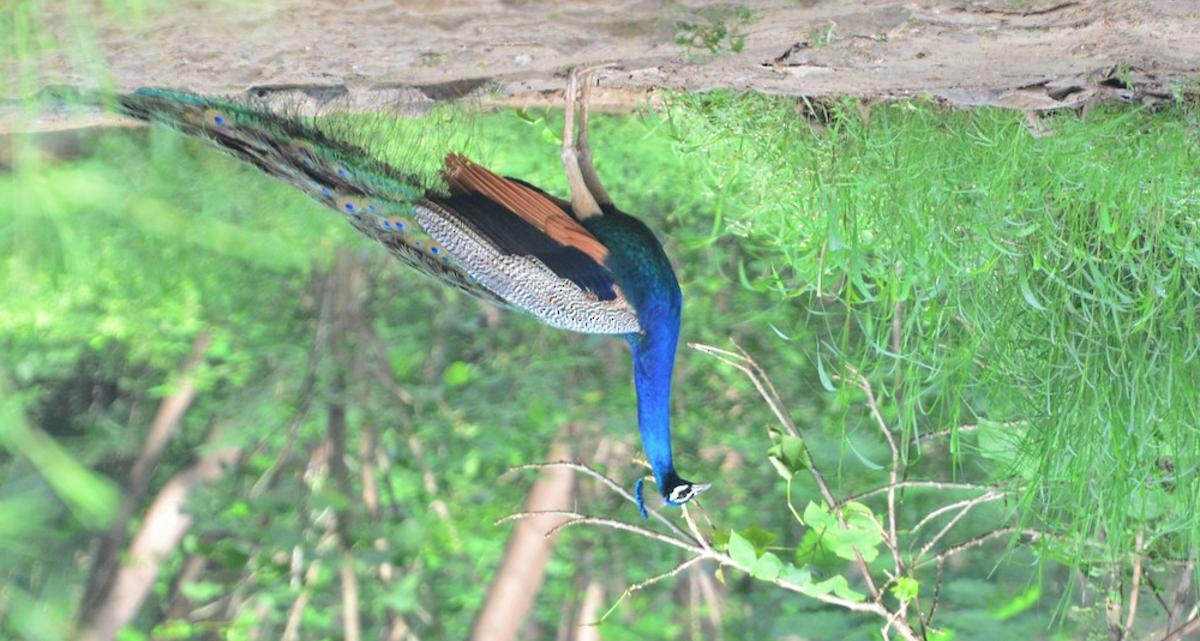peacock: (138, 57, 723, 528)
